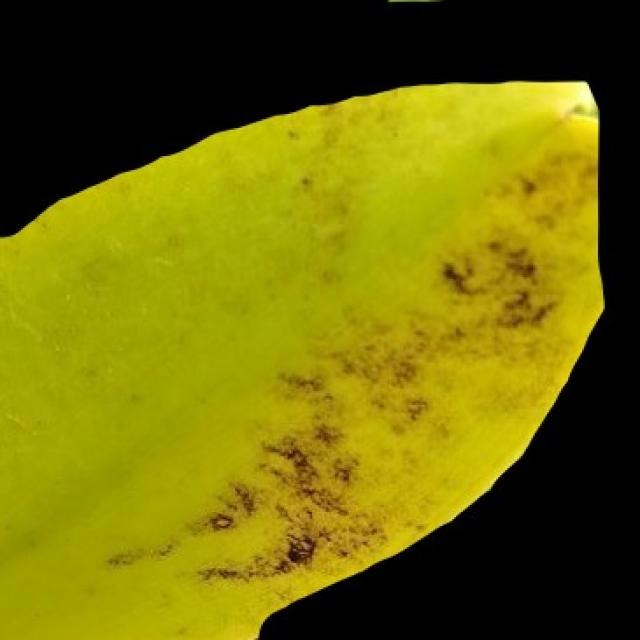mite: (202, 477, 260, 533), (368, 0, 472, 19), (501, 242, 538, 281), (275, 366, 324, 395), (226, 477, 260, 517), (437, 256, 473, 293), (282, 533, 316, 565), (310, 419, 344, 447), (388, 356, 417, 386), (330, 454, 356, 484), (205, 508, 235, 531), (403, 395, 428, 421), (377, 0, 456, 5)
